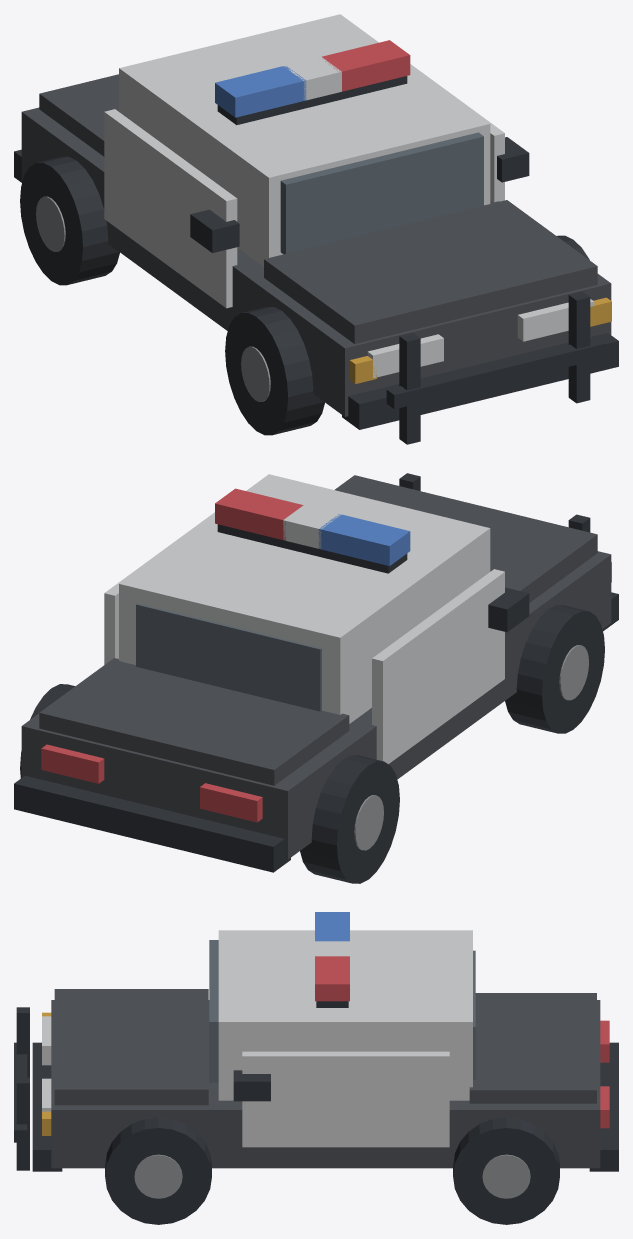
The model's file is police_car_simple.glb.
The picture shows the model from 3 angles, top to bottom: view 1: azimuth 30°, elevation 25°; view 2: azimuth 150°, elevation 25°; view 3: azimuth 270°, elevation 25°; orthographic projection. The views are drawn at different scales.
Parts seen in each view (by area): view 1: cabin, hood, body_main, windshield, door_left, wheel_FL, wheel_RL, push_bar_main, front_bumper, trunk, lightbar_blue, lightbar_red (+12 smaller); view 2: cabin, body_main, trunk, door_left, rear_window, rear_bumper, hood, wheel_RL, wheel_FL, lightbar_blue, lightbar_red, tail_R (+7 smaller); view 3: cabin, body_main, door_right, hood, trunk, wheel_FR, wheel_RR, rear_bumper, front_bumper, wheel_FR_hub, wheel_RR_hub, lightbar_red (+8 smaller).
Boxes of the visible parts, left/top/right/bottom form: cabin: left=119, top=14, right=490, bottom=266; hood: left=264, top=200, right=597, bottom=343; body_main: left=21, top=107, right=611, bottom=416; windshield: left=280, top=132, right=483, bottom=254; door_left: left=104, top=109, right=237, bottom=308; wheel_FL: left=225, top=307, right=324, bottom=435; wheel_RL: left=20, top=156, right=119, bottom=285; push_bar_main: left=386, top=338, right=605, bottom=409; front_bumper: left=342, top=333, right=618, bottom=429; trunk: left=39, top=74, right=118, bottom=156; lightbar_blue: left=215, top=66, right=306, bottom=117; lightbar_red: left=322, top=40, right=410, bottom=91; cabin: left=119, top=474, right=490, bottom=723; body_main: left=21, top=551, right=611, bottom=859; trunk: left=39, top=658, right=349, bottom=785; door_left: left=372, top=569, right=504, bottom=763; rear_window: left=136, top=603, right=321, bottom=711; rear_bumper: left=14, top=775, right=290, bottom=872; hood: left=335, top=475, right=597, bottom=602; wheel_RL: left=300, top=755, right=399, bottom=883; wheel_FL: left=505, top=605, right=604, bottom=733; lightbar_blue: left=318, top=514, right=410, bottom=565; lightbar_red: left=215, top=488, right=303, bottom=540; tail_R: left=41, top=744, right=104, bottom=783; cabin: left=218, top=930, right=472, bottom=1100; body_main: left=51, top=1000, right=600, bottom=1168; door_right: left=242, top=1051, right=449, bottom=1147; hood: left=54, top=989, right=208, bottom=1105; trunk: left=469, top=993, right=596, bottom=1103; wheel_FR: left=105, top=1117, right=211, bottom=1224; wheel_RR: left=453, top=1117, right=559, bottom=1224; rear_bumper: left=589, top=1042, right=618, bottom=1171; front_bumper: left=32, top=1042, right=62, bottom=1171; wheel_FR_hub: left=134, top=1154, right=182, bottom=1198; wheel_RR_hub: left=482, top=1154, right=530, bottom=1198; lightbar_red: left=315, top=956, right=349, bottom=1001.
Size of the model in its own units: 2.34 by 1.74 by 4.52.
